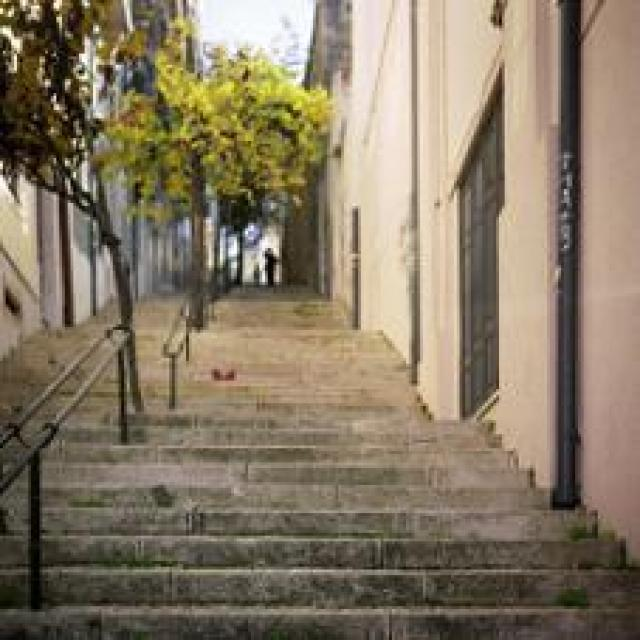upstair: (13, 348, 605, 610)
